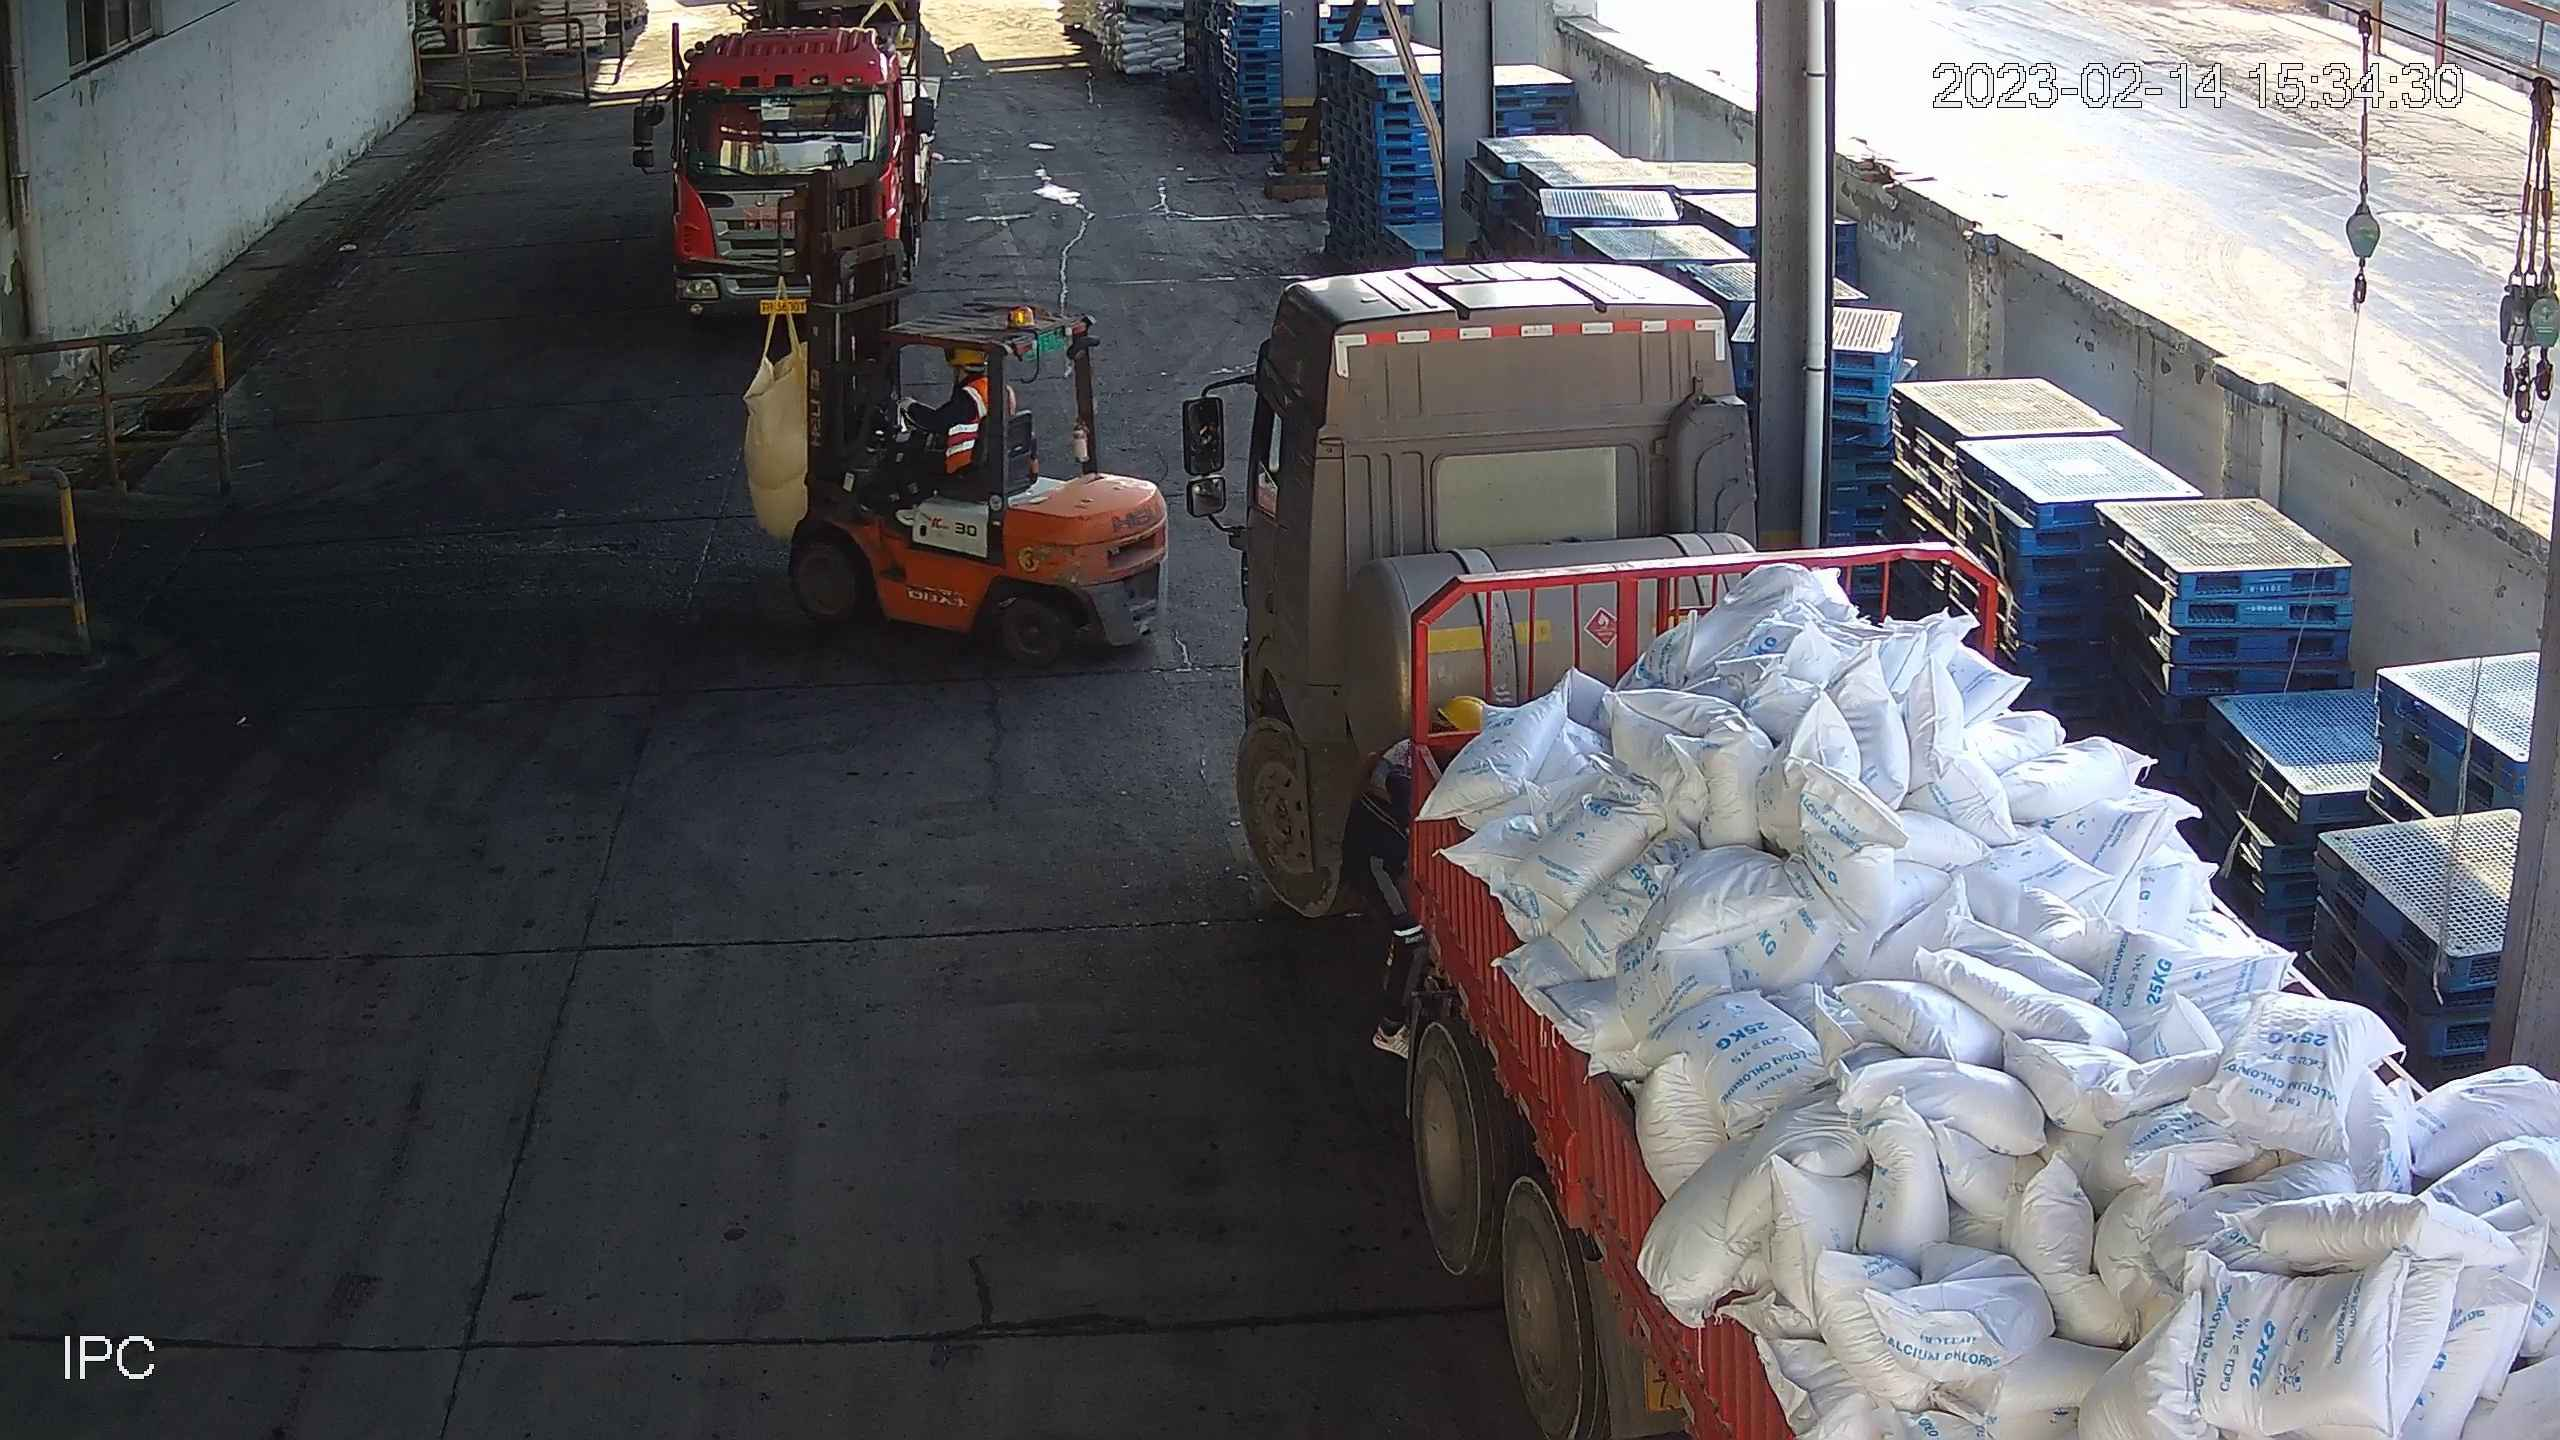head: (948, 348, 1016, 422)
helmet: (949, 348, 985, 365)
people: (897, 346, 1016, 506)
truck: (1184, 263, 2560, 1440), (632, 1, 941, 323)
